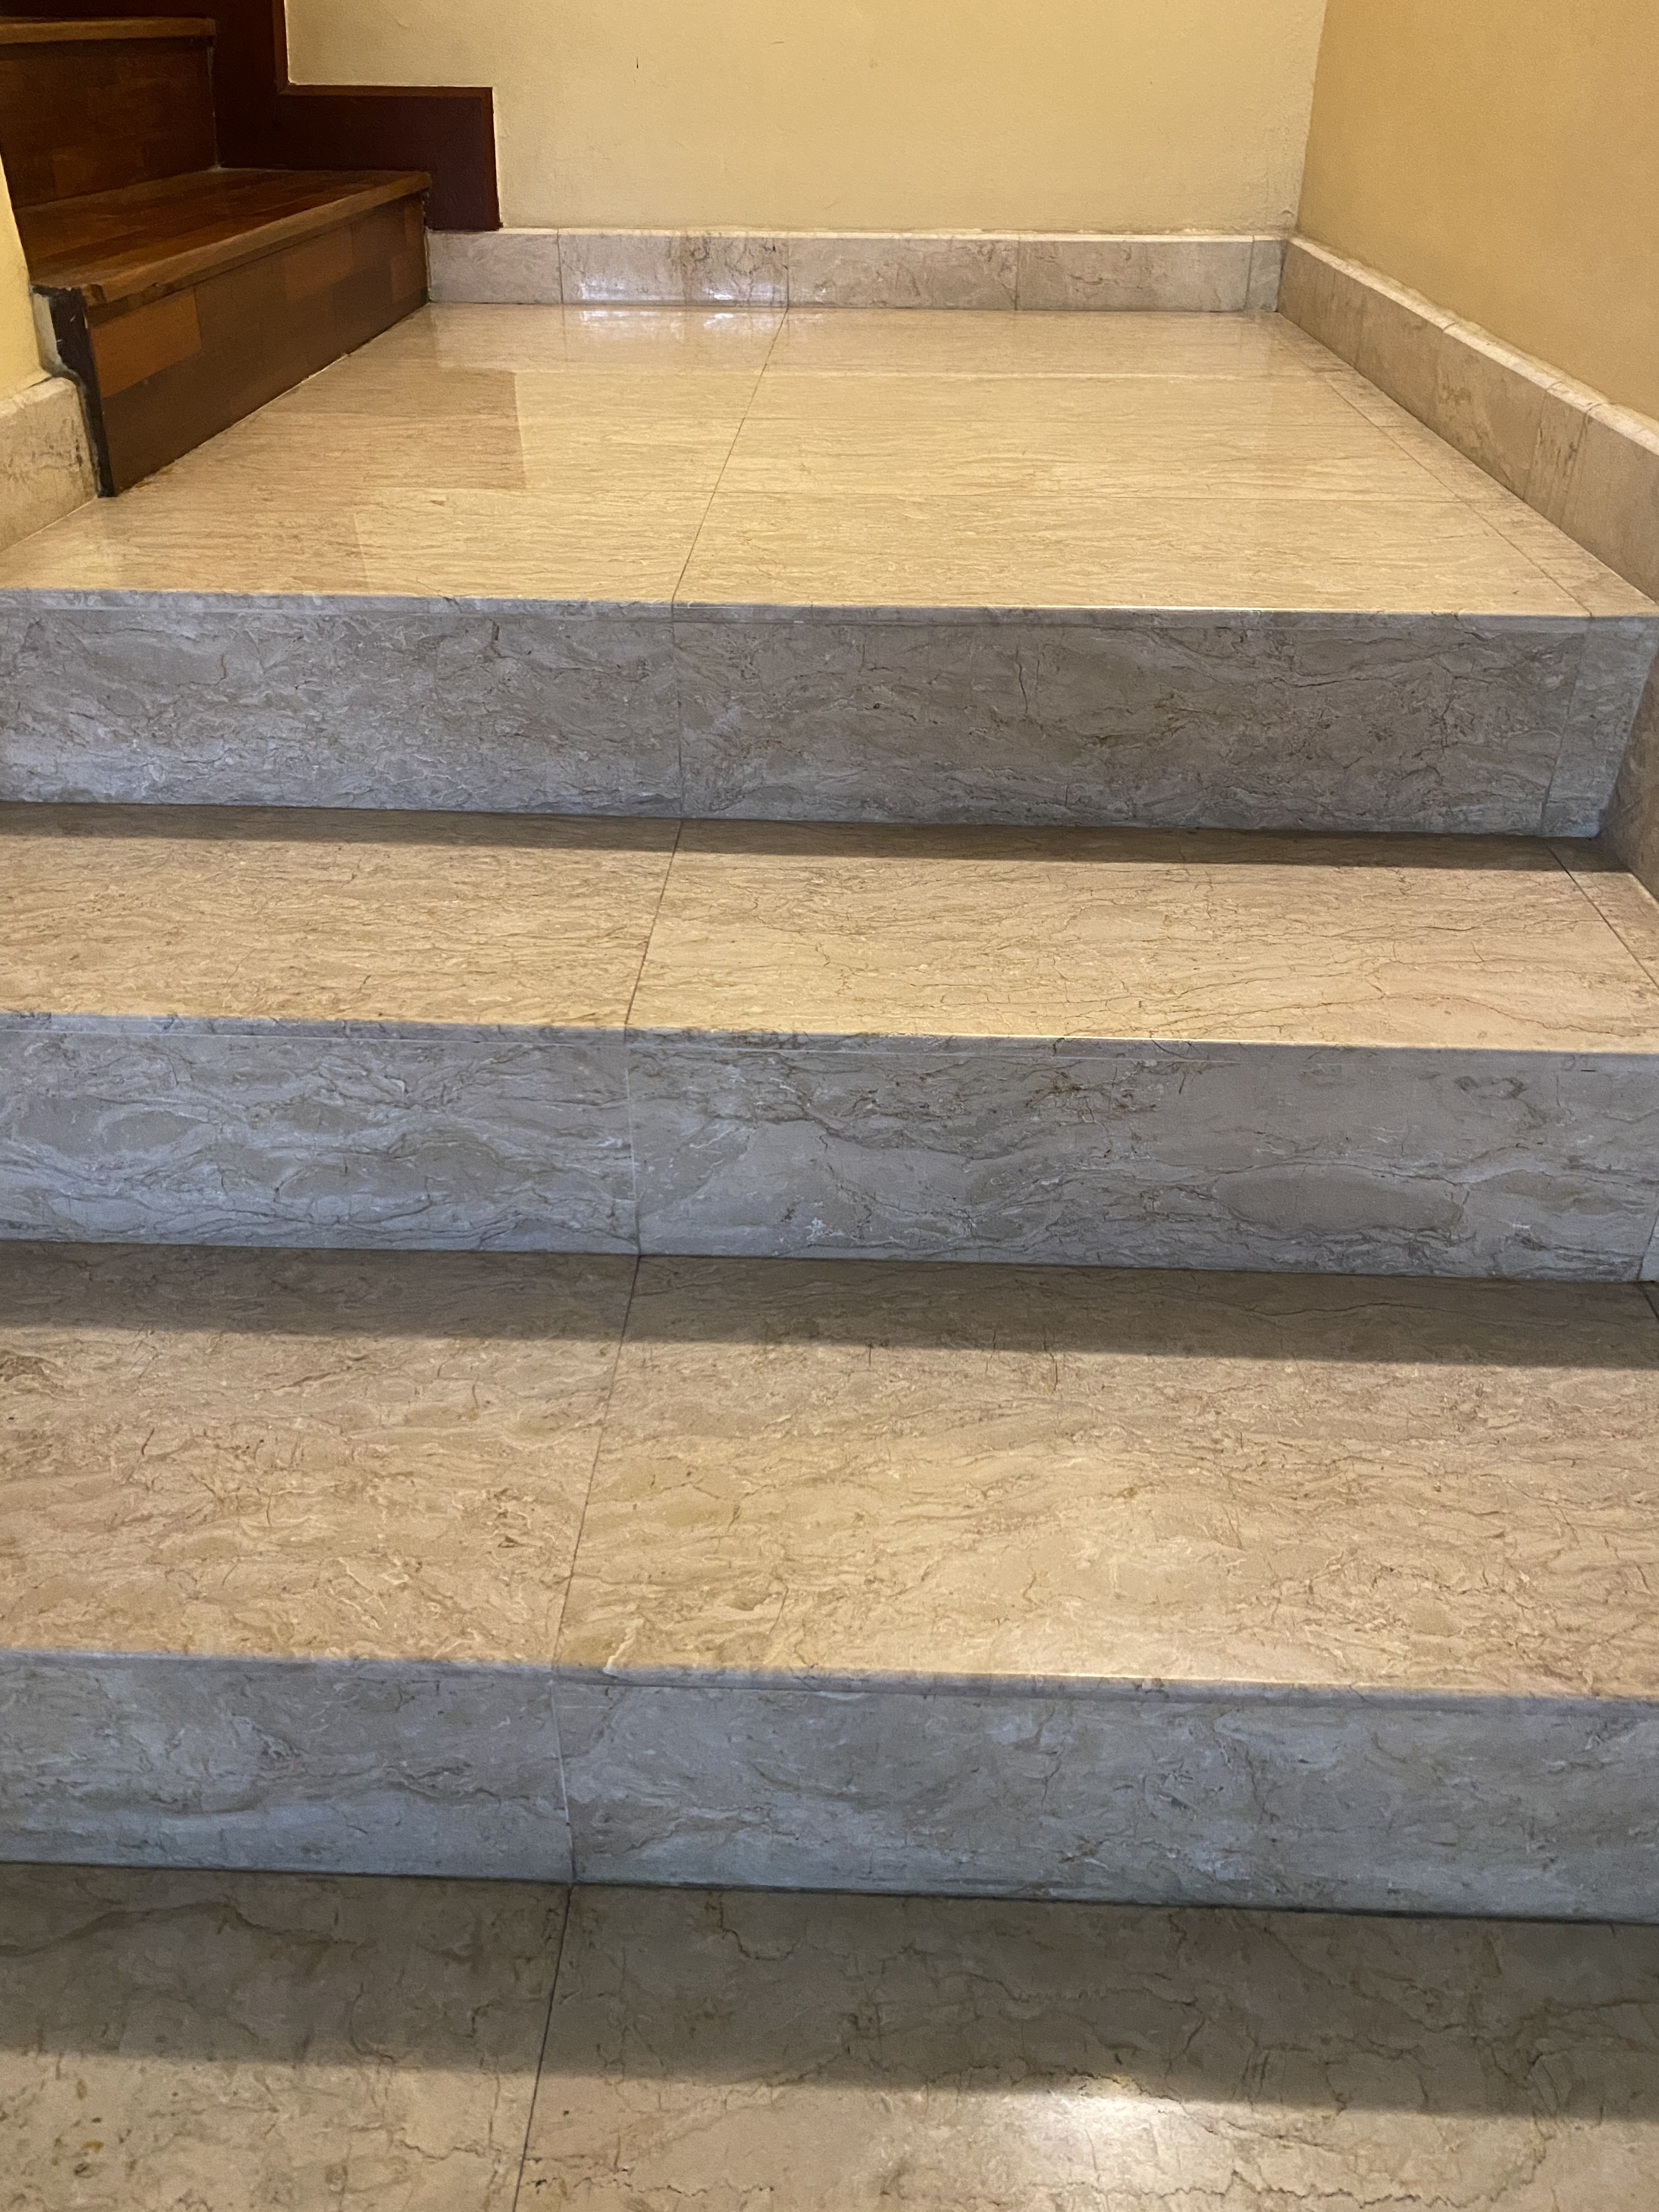upstairs: (71, 509, 1659, 2064)
